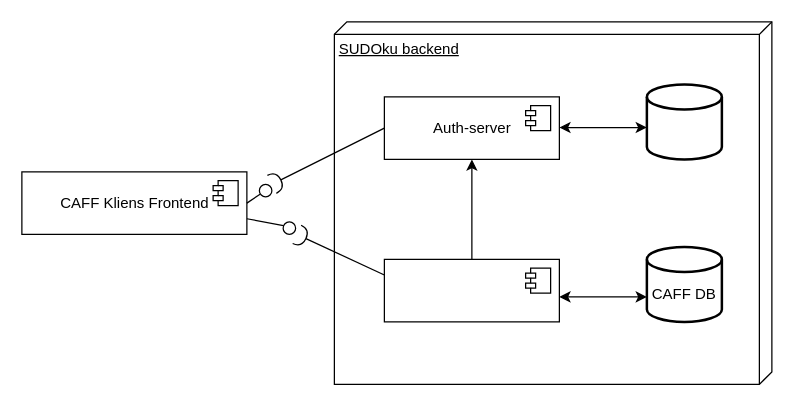
Some shapes in this 794 by 406 pixel diagram are drawn without their labels. The centre of each missing label's shape, as x and y in pixels:
"CAFF Service" goes at (471,290).
"User DB" goes at (683,121).
